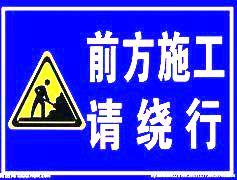sign: (1, 5, 235, 176)
